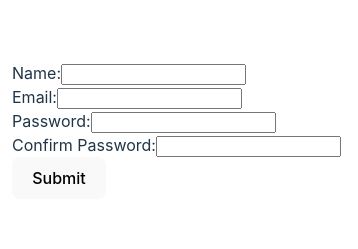
Test: UserRegistrationForm › displays error messages for invalid inputs
The image size is (358, 249).
Click the button "Submit" at (59, 178), box [12,157,106,199]
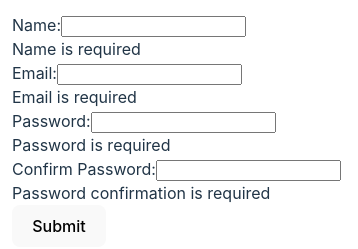
Expected: the text "Name is required" is shown, [12,39,141,59]
Expected: the text "Email is required" is shown, [12,87,137,107]
Expected: the text "Password is required" is shown, [12,135,170,155]
